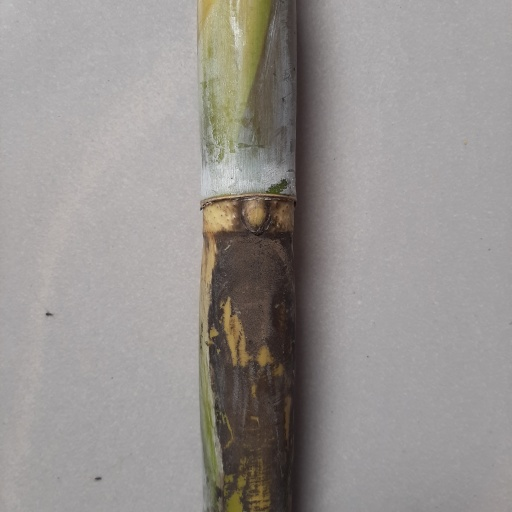Bud: (237, 196, 271, 236)
